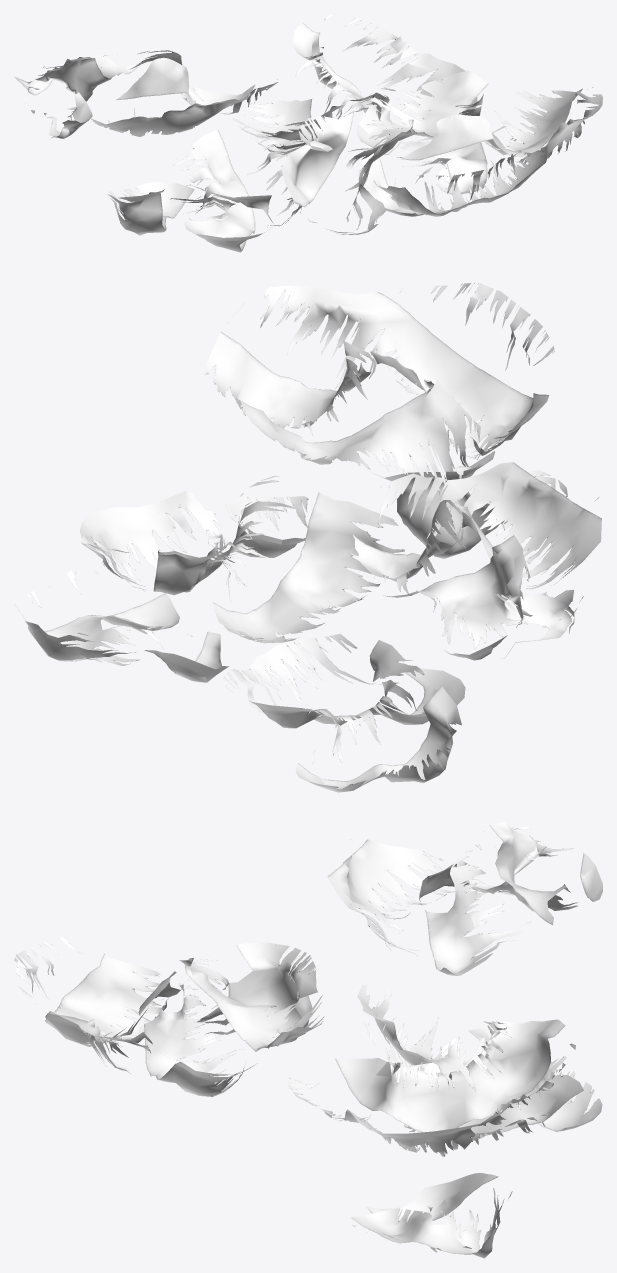
The model's file is SM_ENV_KNFRST_Leaf_GroupF.FBX.
3 views of the same model, one above another, from view 1: azimuth 30°, elevation 25°; view 2: azimuth 150°, elevation 25°; view 3: azimuth 270°, elevation 25° (orthographic). The views are drawn at different scales.
Visible parts, largest first — view 1: SM_ENV_KNFRST_Leaf_GroupF; view 2: SM_ENV_KNFRST_Leaf_GroupF; view 3: SM_ENV_KNFRST_Leaf_GroupF.
Boxes of the visible parts, left/top/right/bottom form: SM_ENV_KNFRST_Leaf_GroupF: left=14, top=14, right=602, bottom=252; SM_ENV_KNFRST_Leaf_GroupF: left=14, top=282, right=601, bottom=792; SM_ENV_KNFRST_Leaf_GroupF: left=14, top=821, right=602, bottom=1258.
Bounding box in the file's own units: 9124 × 3943 × 8592.
